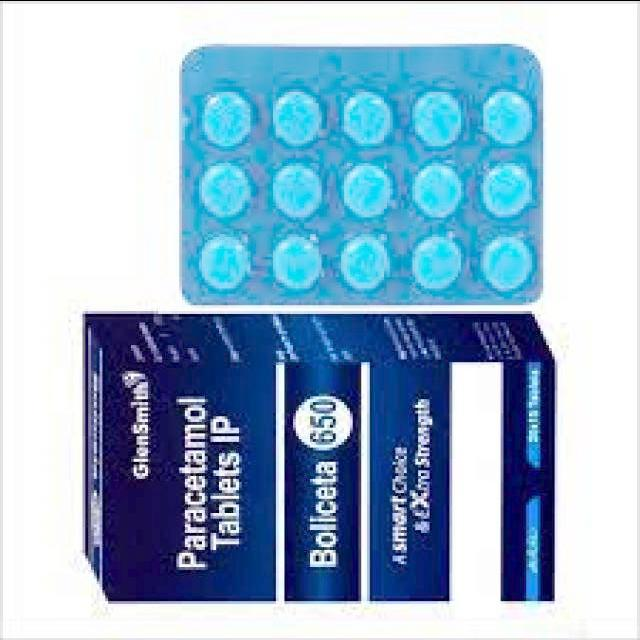authentic: (59, 308, 570, 618), (158, 24, 555, 313)
